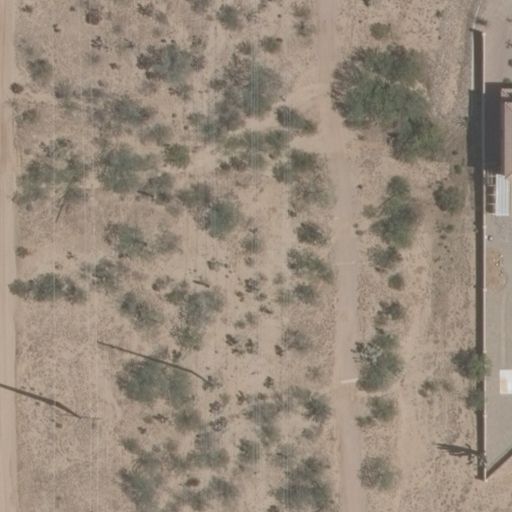DT: (197, 369, 225, 392), (68, 407, 97, 427)
